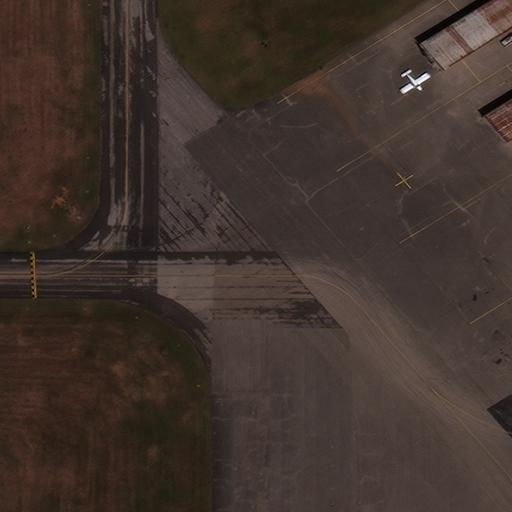Small Civil Transport: (402, 71, 430, 94)
